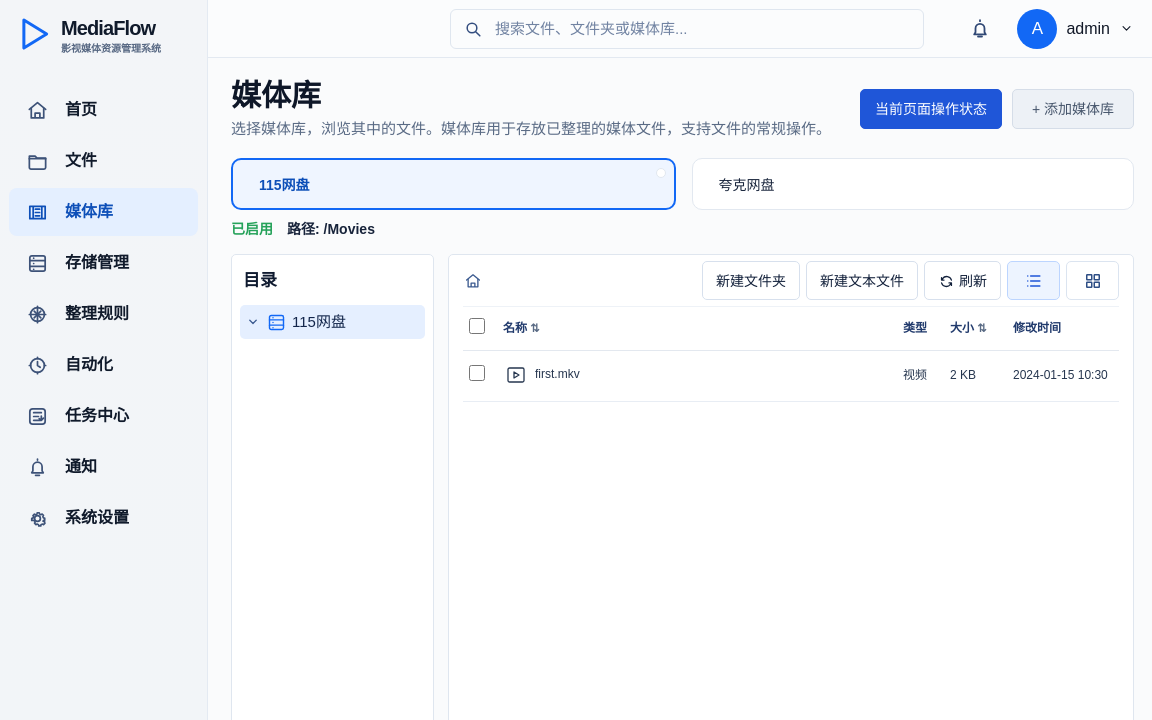
Test: MediaLibrary Files journey › supports list/grid, selection summary and honest cursor paging
The image size is (1152, 720).
Expected: the table is shown, [463,307,1119,402]
What coordinates should you click on to do the following:
click the checkbox named "选择 first.mkv"
I would click on:
 (477, 373)
Its box is [469,365,485,381].
(page scrolled)
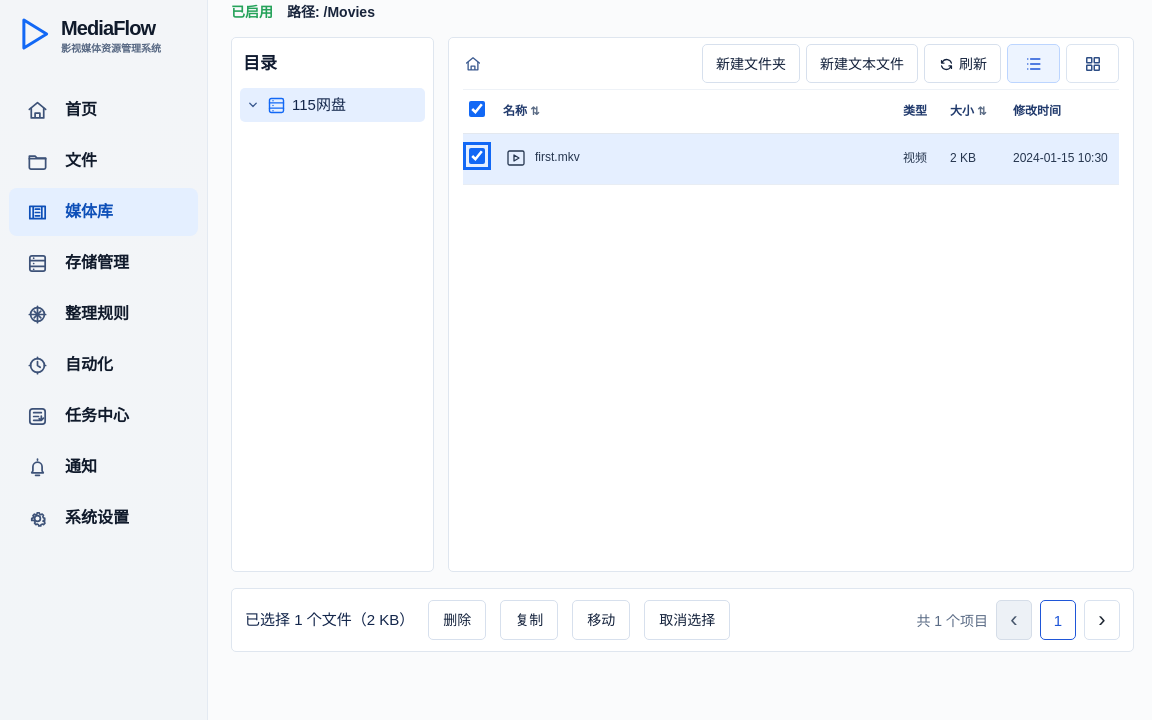
Result: the text "已选择 1 个文件（2 KB）" is shown at [245,609,414,631]
What coordinates should you click on to do the following:
click the button named "下一页"
I would click on:
 (1102, 620)
Its box is [1084,600,1120,640].
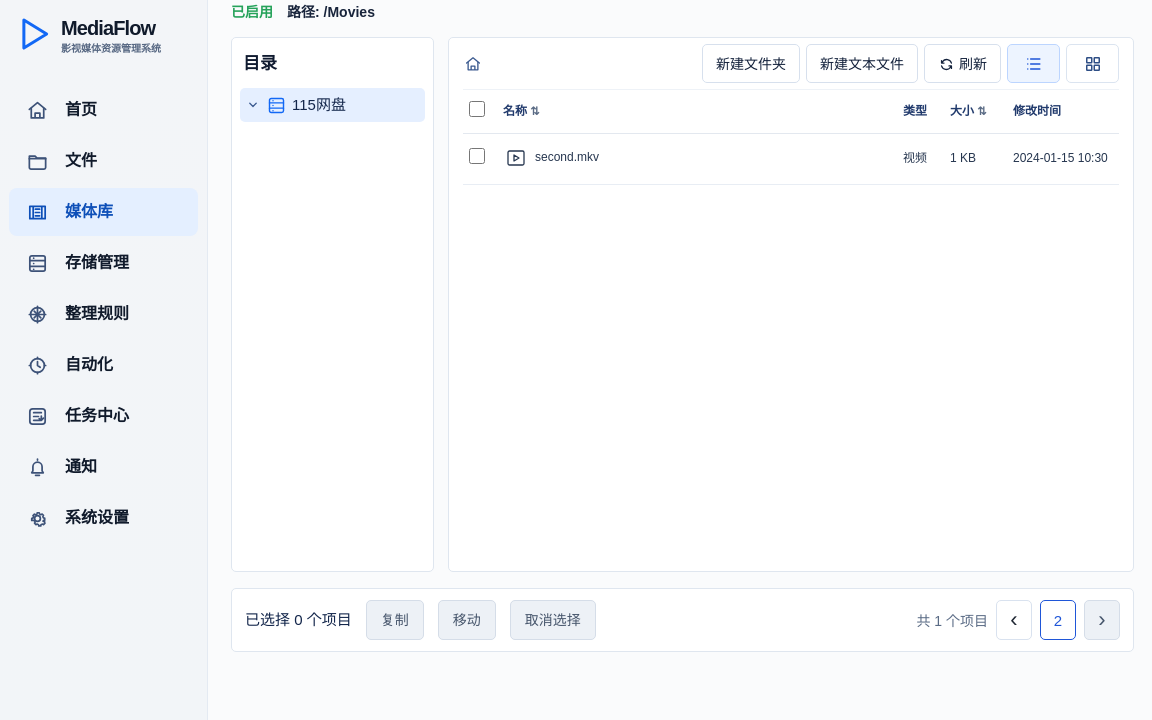
Expected: the button named "上一页" is enabled, [996,600,1032,640]
Result: the text "second.mkv" is shown at [503,140,599,174]
What coordinates should you click on to do the following:
click the button named "网格视图"
I would click on:
 (1092, 64)
Its box is [1066,44,1119,83].
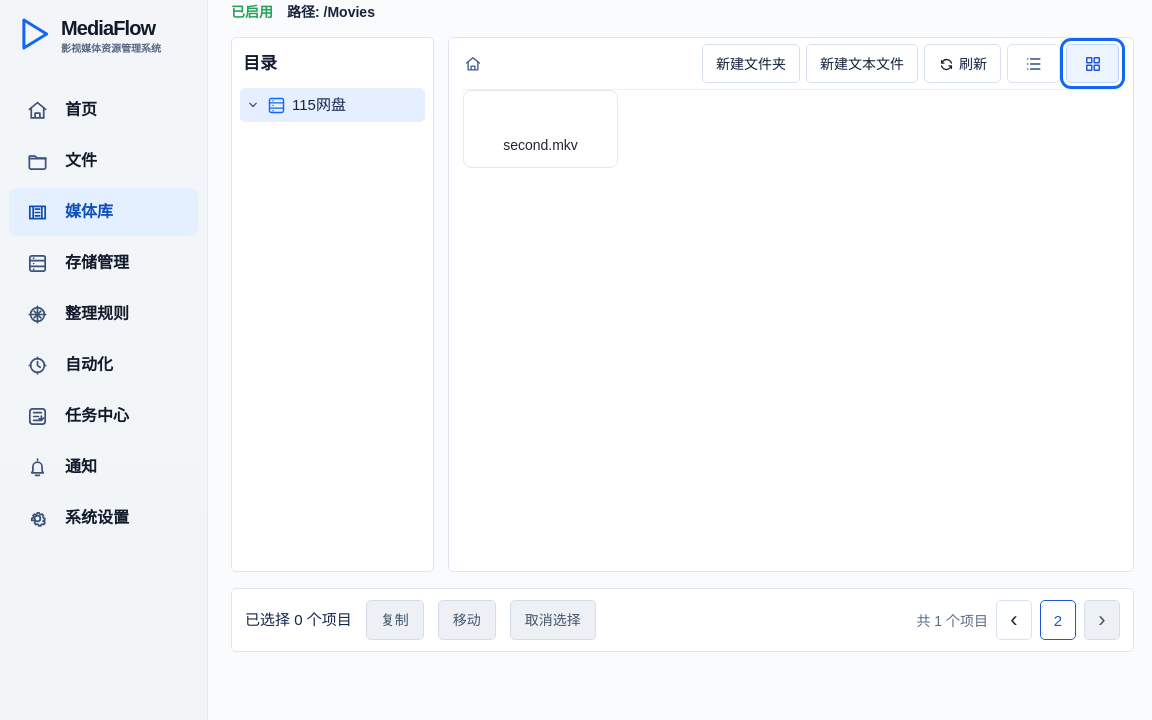
Result: the list with class "mf-files-grid" is shown at [463,90,618,168]
What coordinates should you click on to do the following:
click the button named "列表视图"
I would click on:
 (1034, 64)
Its box is [1007,44,1060,83].
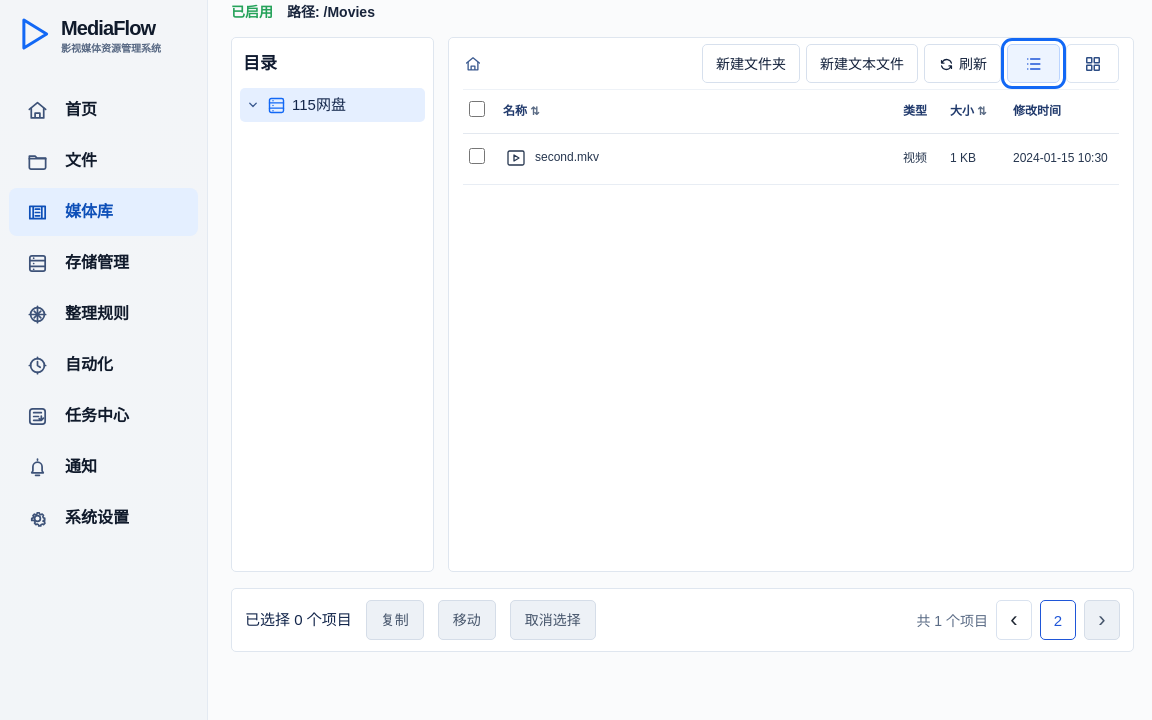
Result: the table with class "mf-files-table" is shown at [463,90,1119,184]
